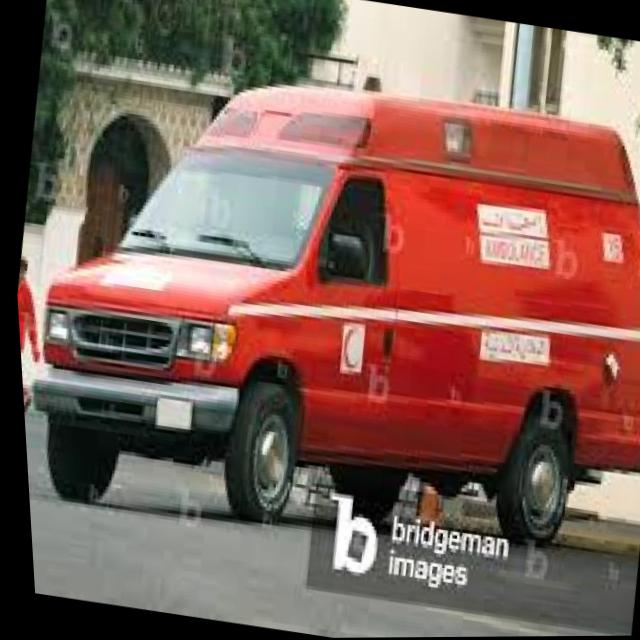ambulance: (0, 0, 640, 591)
